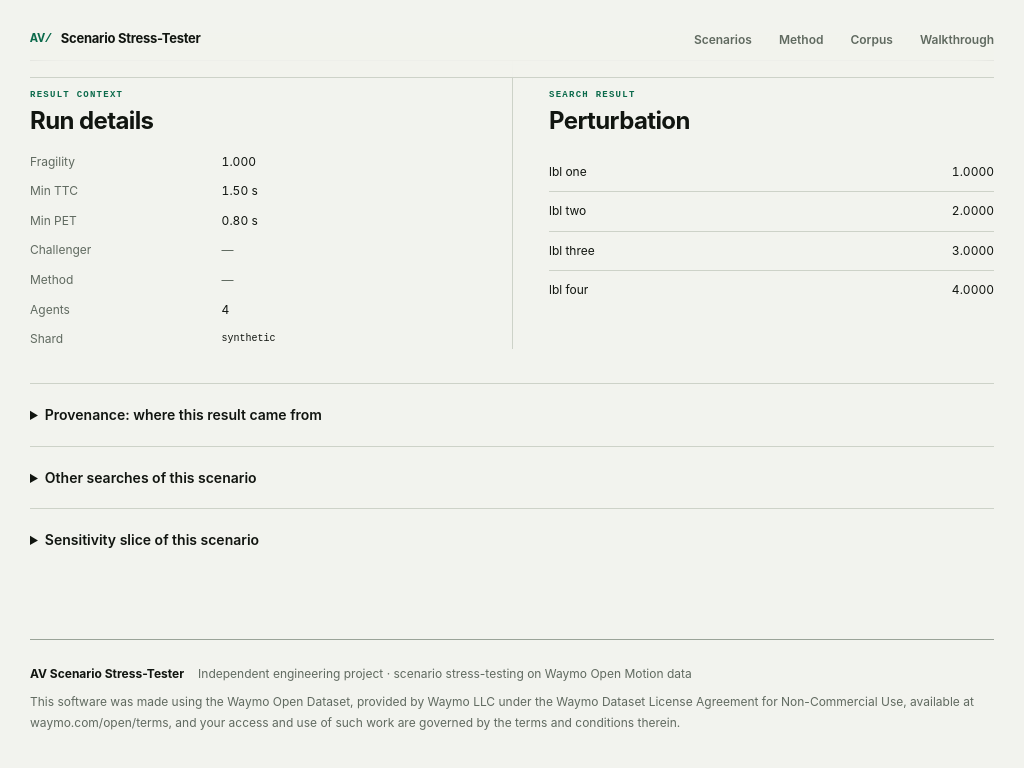
Test: what it shows › shows the times in UTC, with the instant itself as the tooltip
The image size is (1024, 768).
(page scrolled)
Click the heading "Provenance: where this result came from": (183, 414) [45, 406, 322, 423]
(page scrolled)
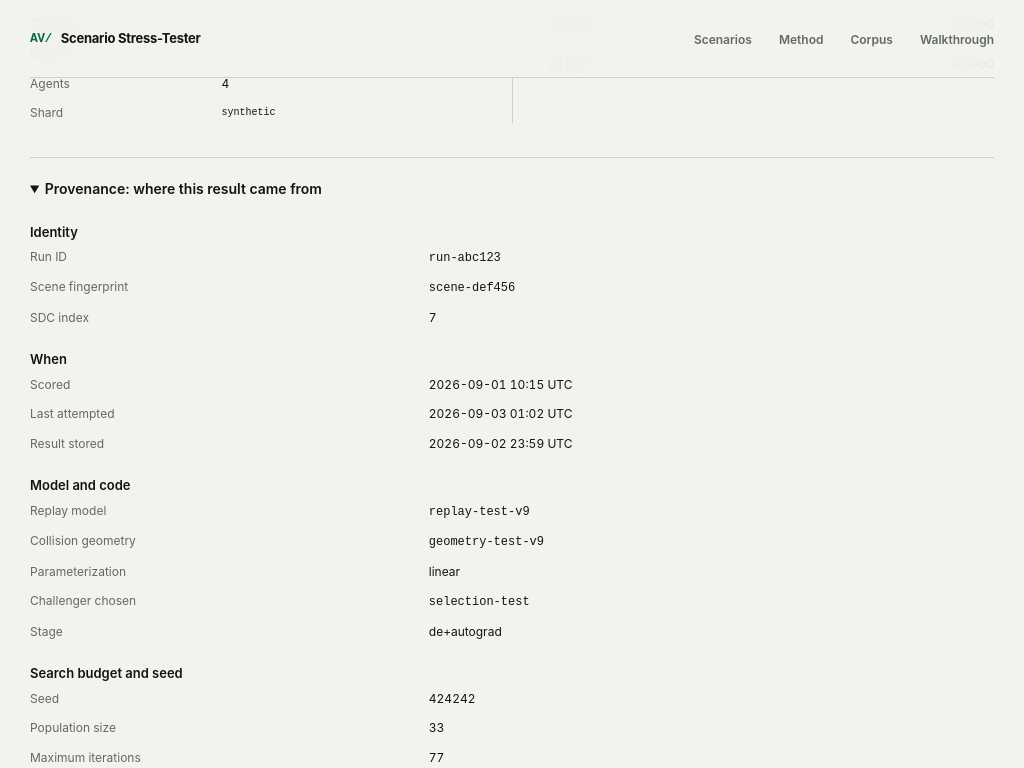
Expected: the text "Run ID" is shown, [30, 249, 67, 264]
Expected: the text "2026-09-01 10:15 UTC" is shown, [429, 377, 572, 392]
Expected: the text "2026-09-03 01:02 UTC" is shown, [429, 406, 572, 421]
